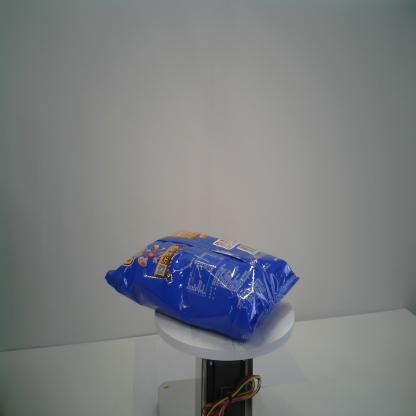Puffed Food: (104, 229, 301, 344)
